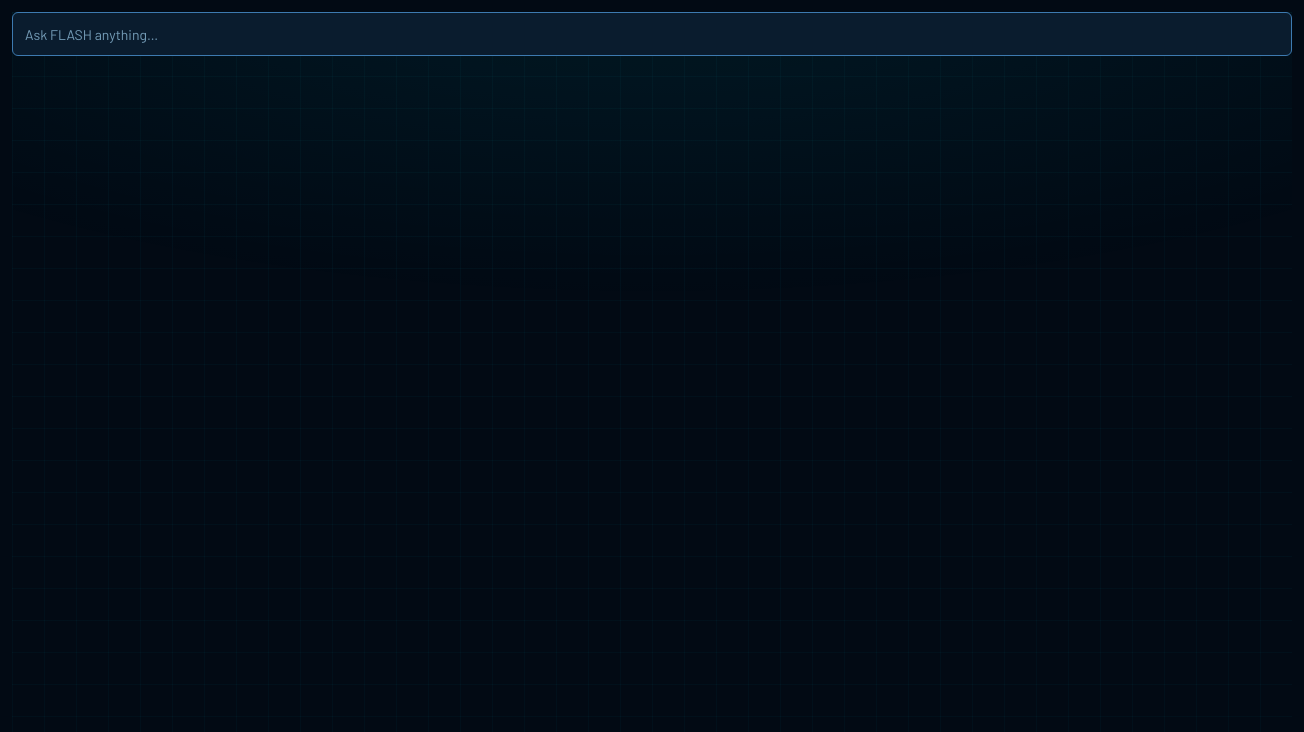
QuickAskBar › submits the text, navigates to /chat, and never puts the text in the URL
Type "hello flash" into the field labelled "Ask FLASH anything" at (652, 34), box x1=12 y1=12 x2=1292 y2=56
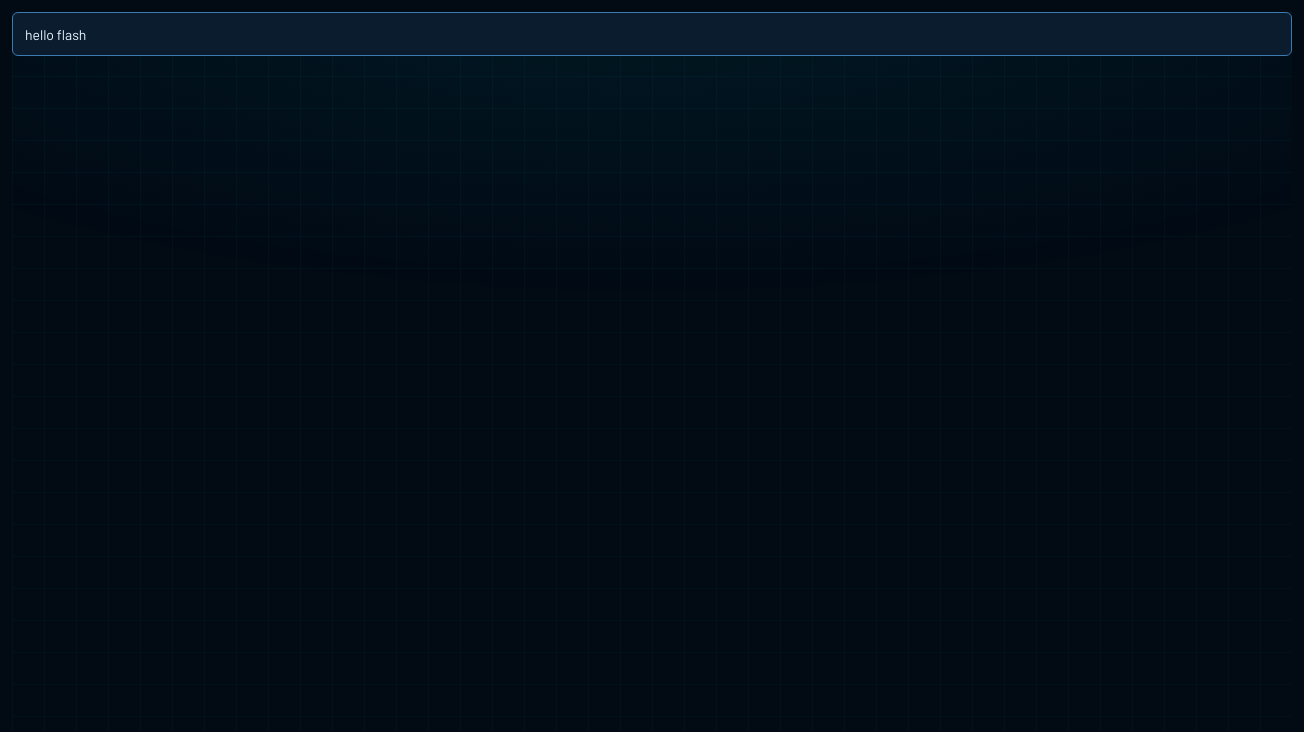
Submit the form named "Ask FLASH anything", box x1=12 y1=12 x2=1292 y2=56
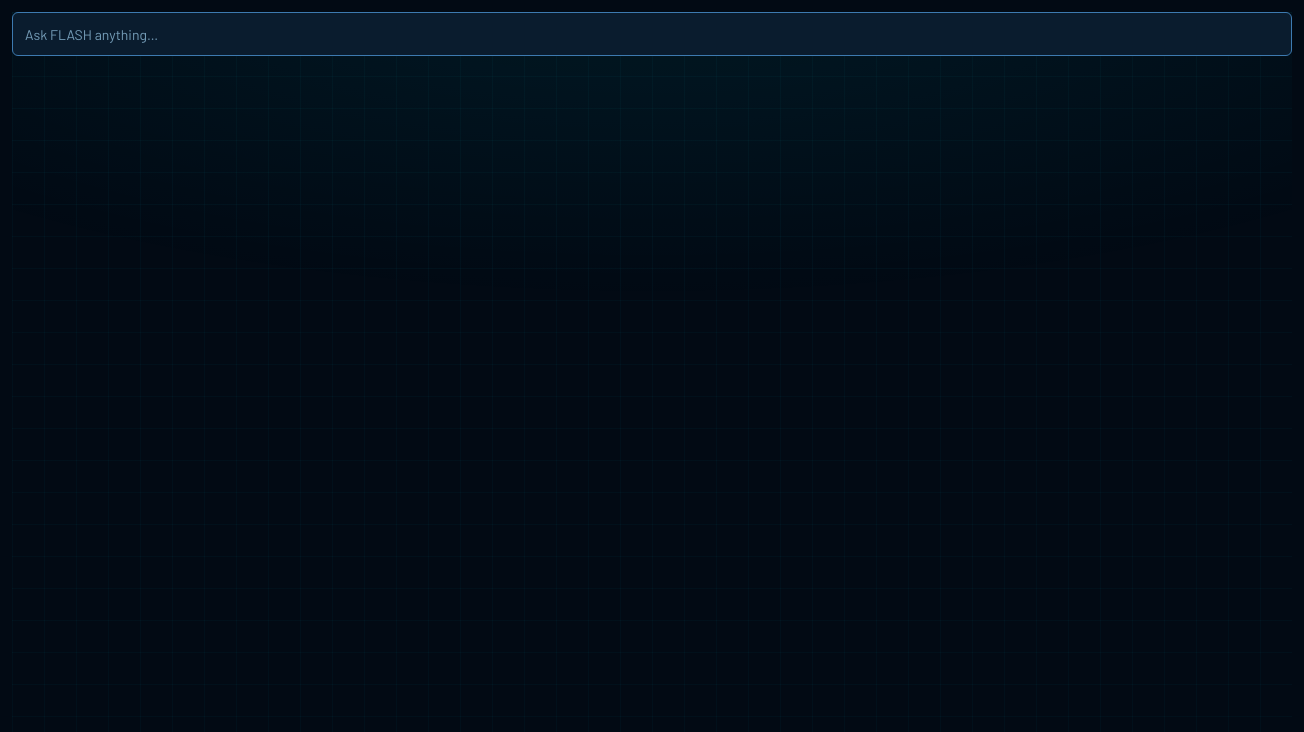
Expected: the field labelled "Ask FLASH anything" is empty, x1=12 y1=12 x2=1292 y2=56
